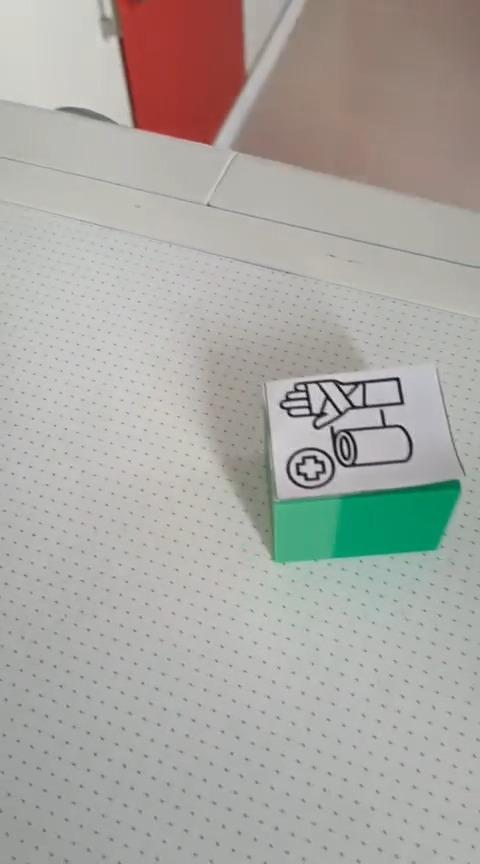Bandages: (263, 363, 463, 563)
